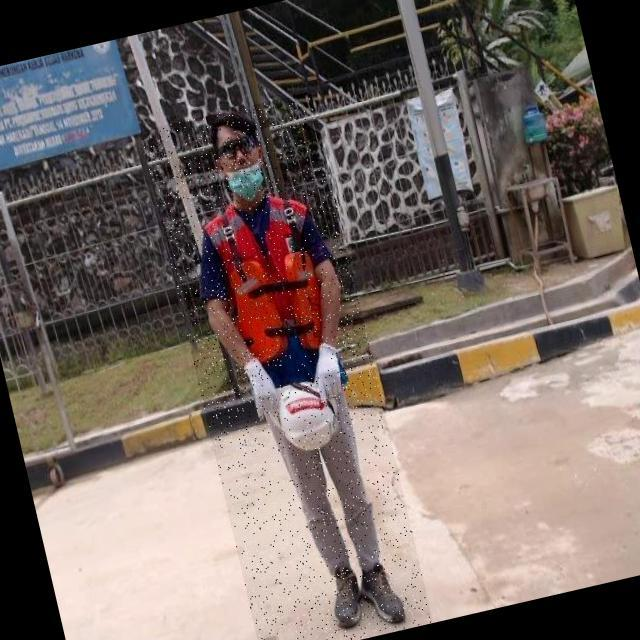Helmet: (264, 375, 344, 456)
Human: (140, 91, 433, 640)
Safety Boot: (353, 557, 409, 632), (324, 560, 368, 630)
Safety Vest: (196, 184, 348, 405)
